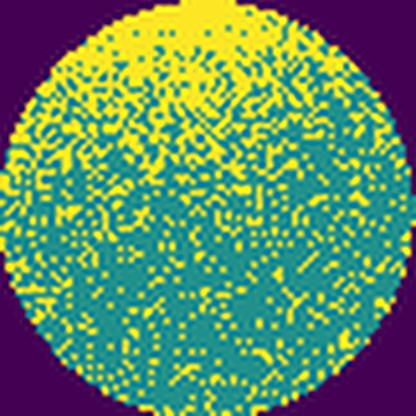Edge-Loc: (0, 0, 304, 124)
